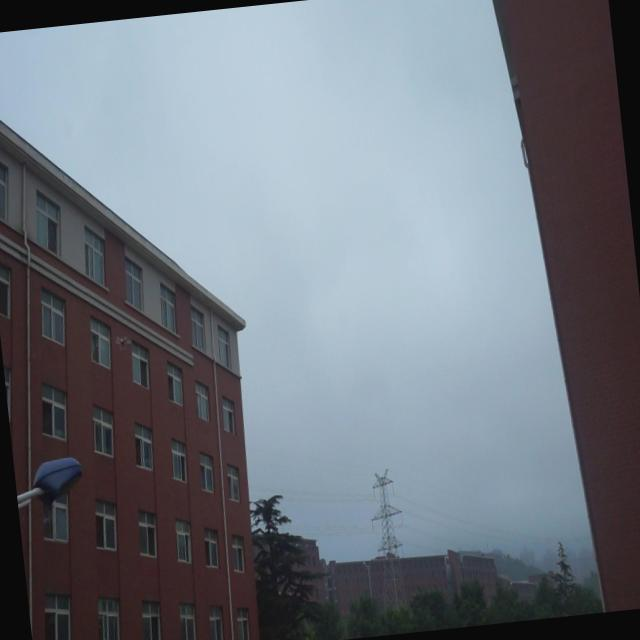drone: (110, 329, 134, 356)
